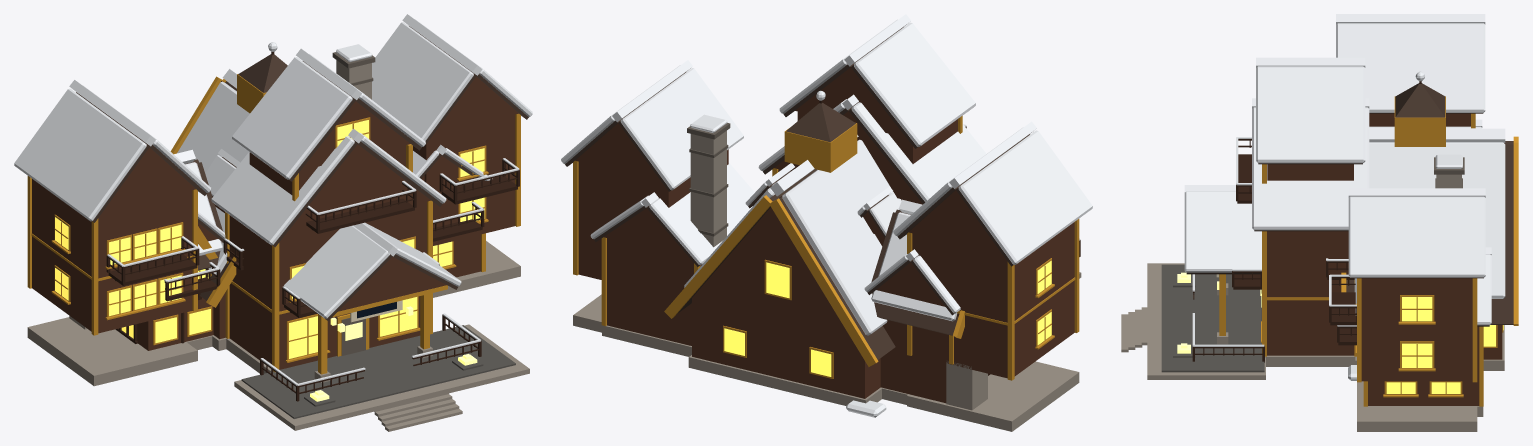
The model's file is lodge-tier-3-chalet70s.glb.
3 renders of one model, left to right at view 1: azimuth 30°, elevation 25°; view 2: azimuth 150°, elevation 25°; view 3: azimuth 270°, elevation 25°, orthographic. The views are drawn at different scales.
Visible parts, largest first — view 1: lodge-tier-3-chalet70s; view 2: lodge-tier-3-chalet70s; view 3: lodge-tier-3-chalet70s.
Part boxes in pixels (x1,y1,x2,y2): lodge-tier-3-chalet70s: (14,14,532,431); lodge-tier-3-chalet70s: (561,14,1092,431); lodge-tier-3-chalet70s: (1121,14,1518,431).
Size of the model in its own units: 31.65 by 19.02 by 24.72.
